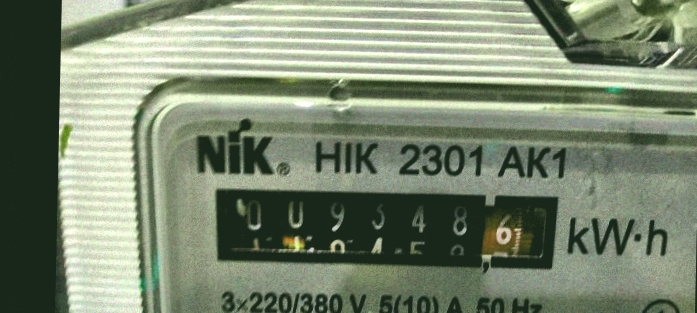0: (284, 195, 306, 232), (243, 197, 264, 232)
3: (366, 198, 389, 231)
4: (406, 199, 428, 237)
6: (493, 211, 515, 246)
8: (449, 202, 470, 237)
9: (327, 197, 346, 232)
screen: (190, 173, 577, 284)
